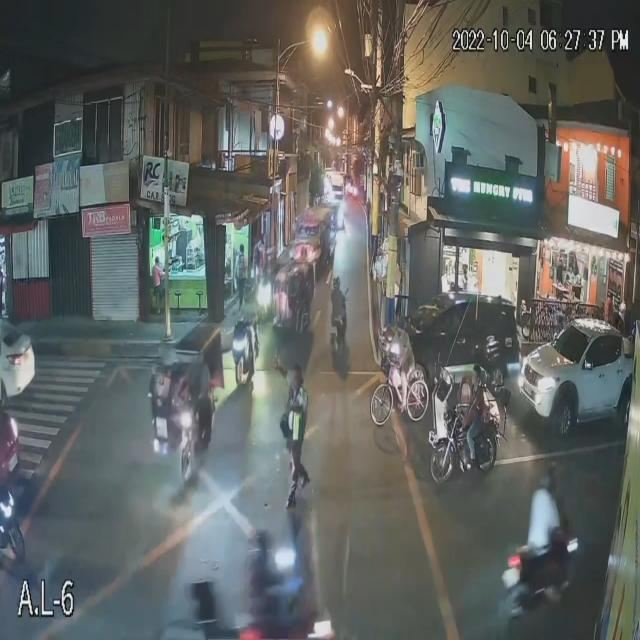Full-Faced: (536, 462, 565, 509), (334, 274, 345, 296), (246, 280, 254, 304)
Half-Faced: (250, 522, 278, 579)
